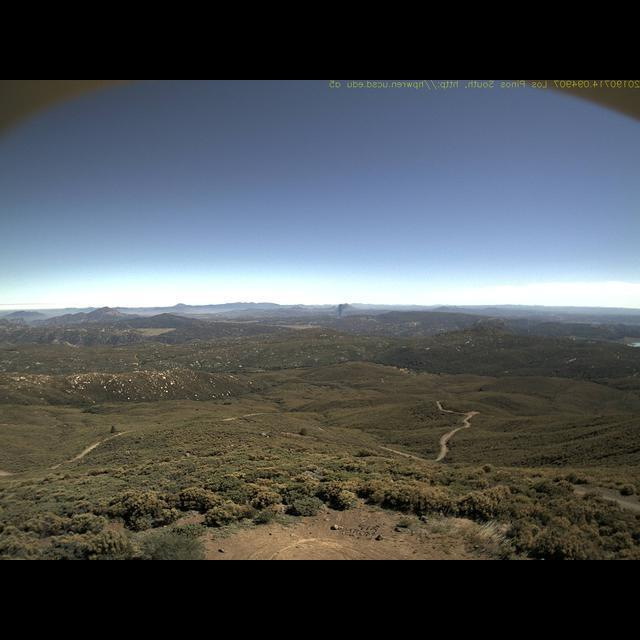Smoke: (333, 297, 355, 321)
